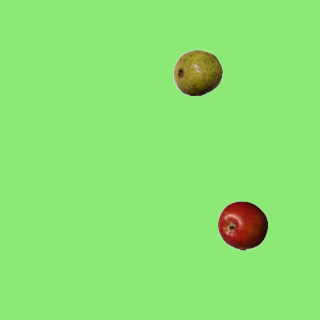Apple Braeburn: (217, 200, 267, 250)
Guava: (172, 47, 222, 97)
